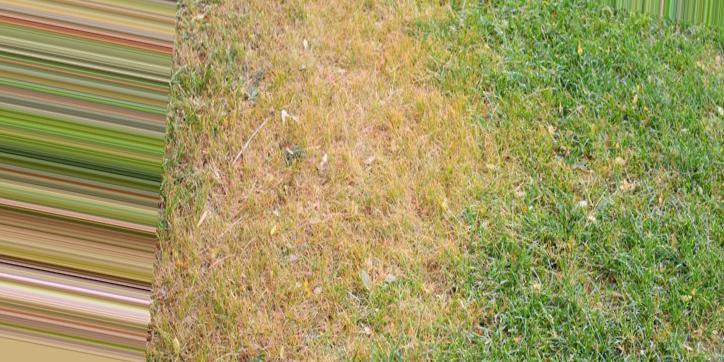patch: (205, 19, 415, 325), (433, 122, 509, 214)
